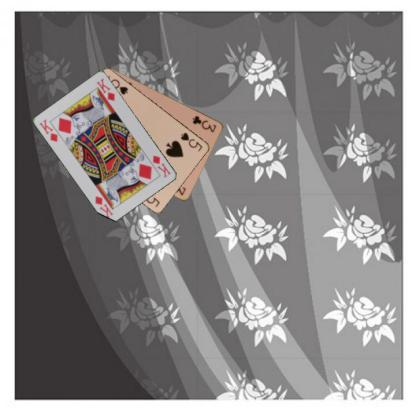3c: (190, 113, 218, 134)
5s: (178, 130, 204, 153)
Kd: (150, 153, 172, 179), (37, 117, 59, 143)
